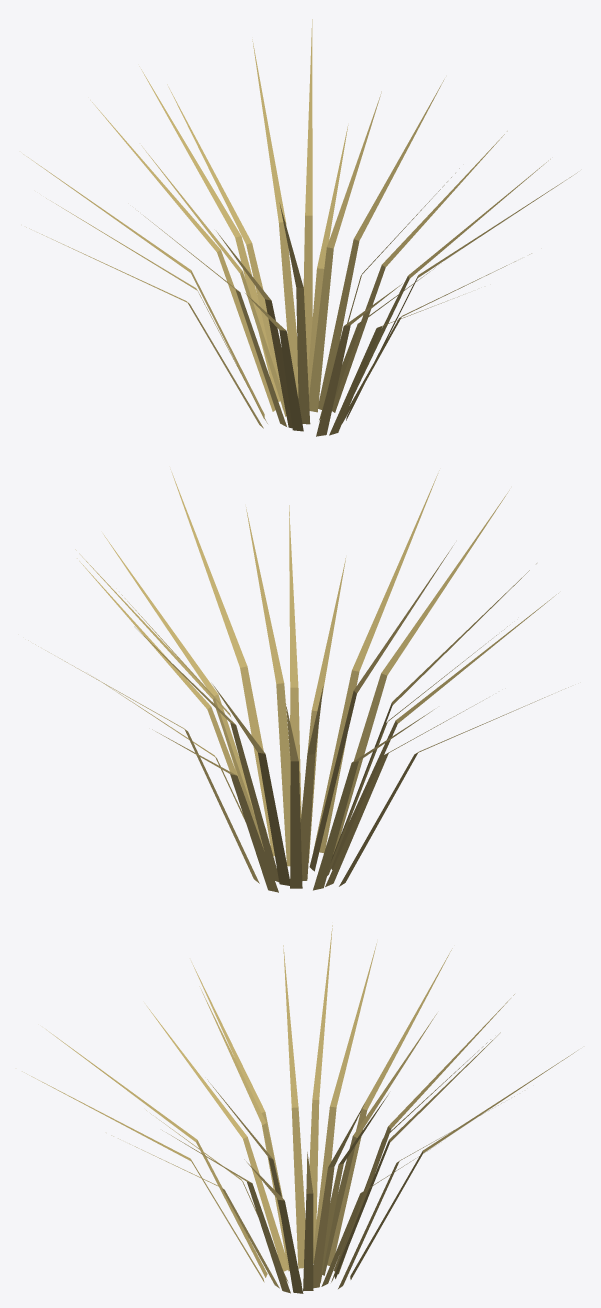
File: zacaton.obj
3 renders of one model, top to bottom at view 1: azimuth 30°, elevation 25°; view 2: azimuth 150°, elevation 25°; view 3: azimuth 270°, elevation 25°, orthographic. The views are drawn at different scales.
Parts seen in each view (by area): view 1: Zacaton_LowPoly; view 2: Zacaton_LowPoly; view 3: Zacaton_LowPoly.
Part boxes in pixels (x1,y1,x2,y2): Zacaton_LowPoly: (23, 19, 577, 436); Zacaton_LowPoly: (28, 469, 568, 892); Zacaton_LowPoly: (22, 925, 577, 1293).
Size of the model in its own units: 2.25 by 1.28 by 2.47.
